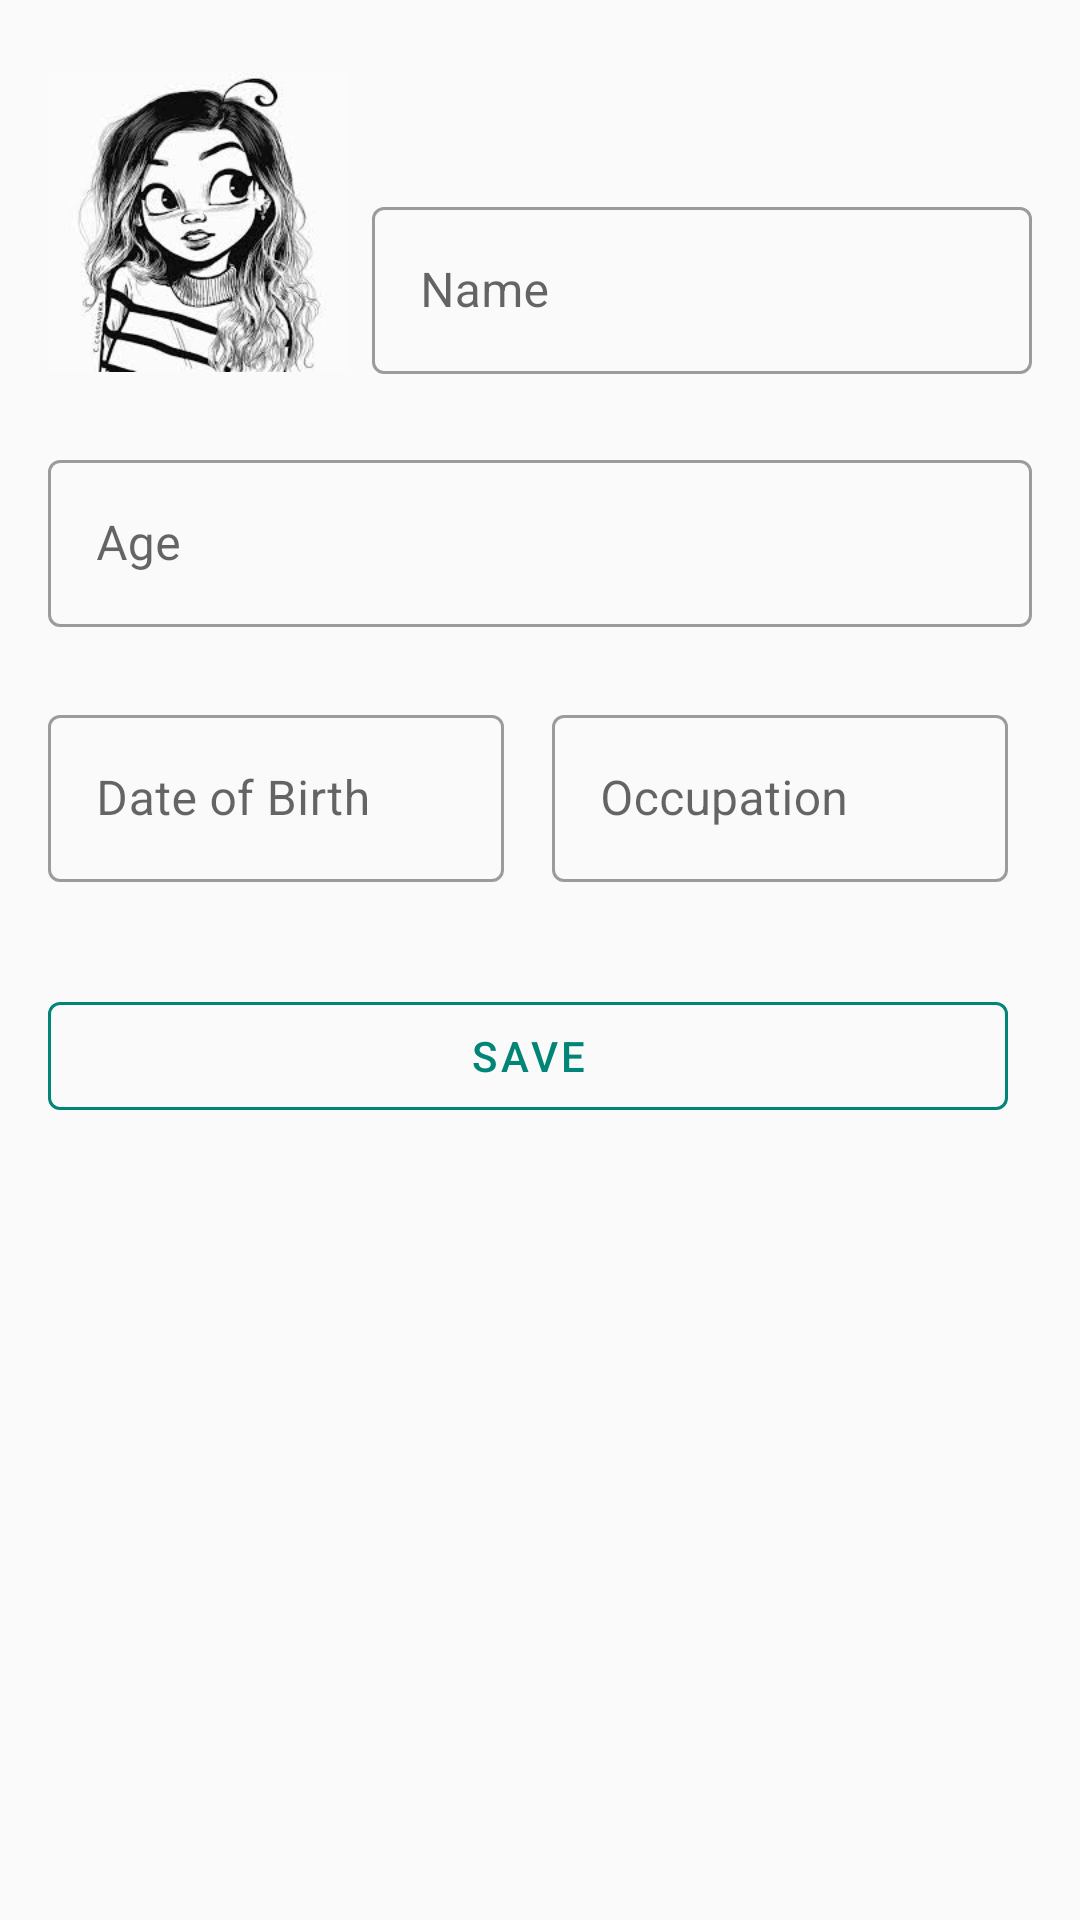

Screen size 1080 x 1920. Icon name, then its box in pixels as [x1=x1, y1=y1, x2=x2, y2=y2]:
profile: [x1=79, y1=78, x2=320, y2=372]
